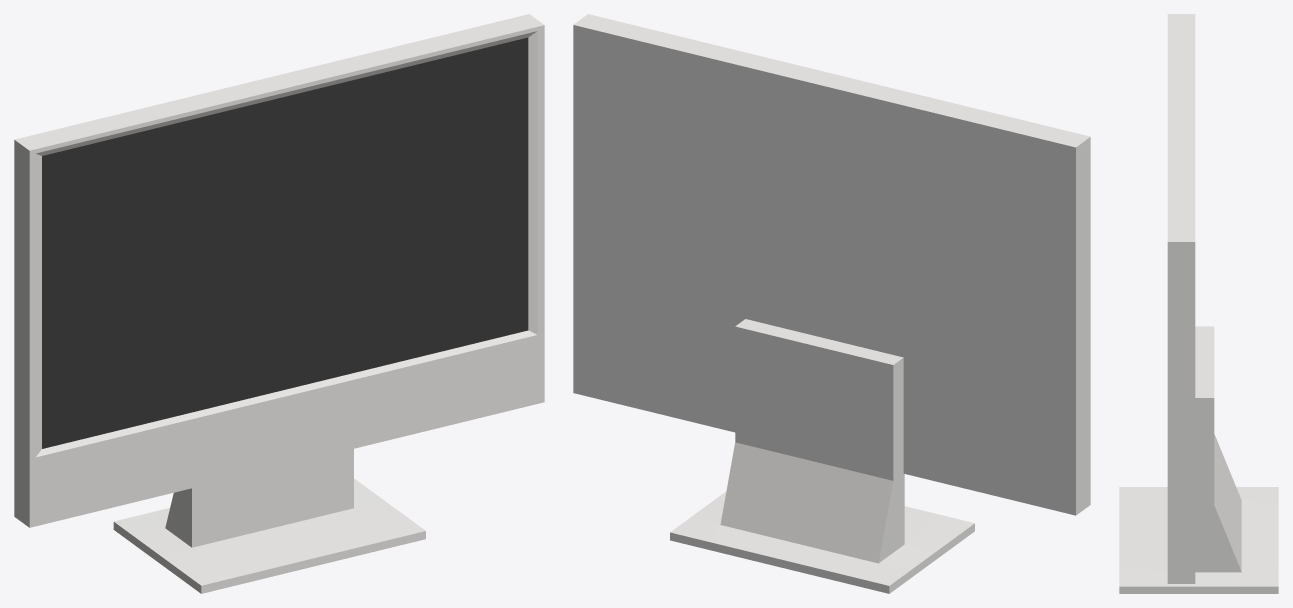
Rendered from Monitor_1.fbx.
The picture shows the model from 3 angles, left to right: view 1: azimuth 30°, elevation 25°; view 2: azimuth 150°, elevation 25°; view 3: azimuth 270°, elevation 25°; orthographic projection. The views are drawn at different scales.
Parts seen in each view (by area): view 1: Monitor_1; view 2: Monitor_1; view 3: Monitor_1.
Boxes of the visible parts, left/top/right/bottom form: Monitor_1: left=14, top=14, right=544, bottom=593; Monitor_1: left=573, top=14, right=1090, bottom=593; Monitor_1: left=1119, top=14, right=1278, bottom=593.
Size of the model in its own units: 124 by 36.55 by 106.
